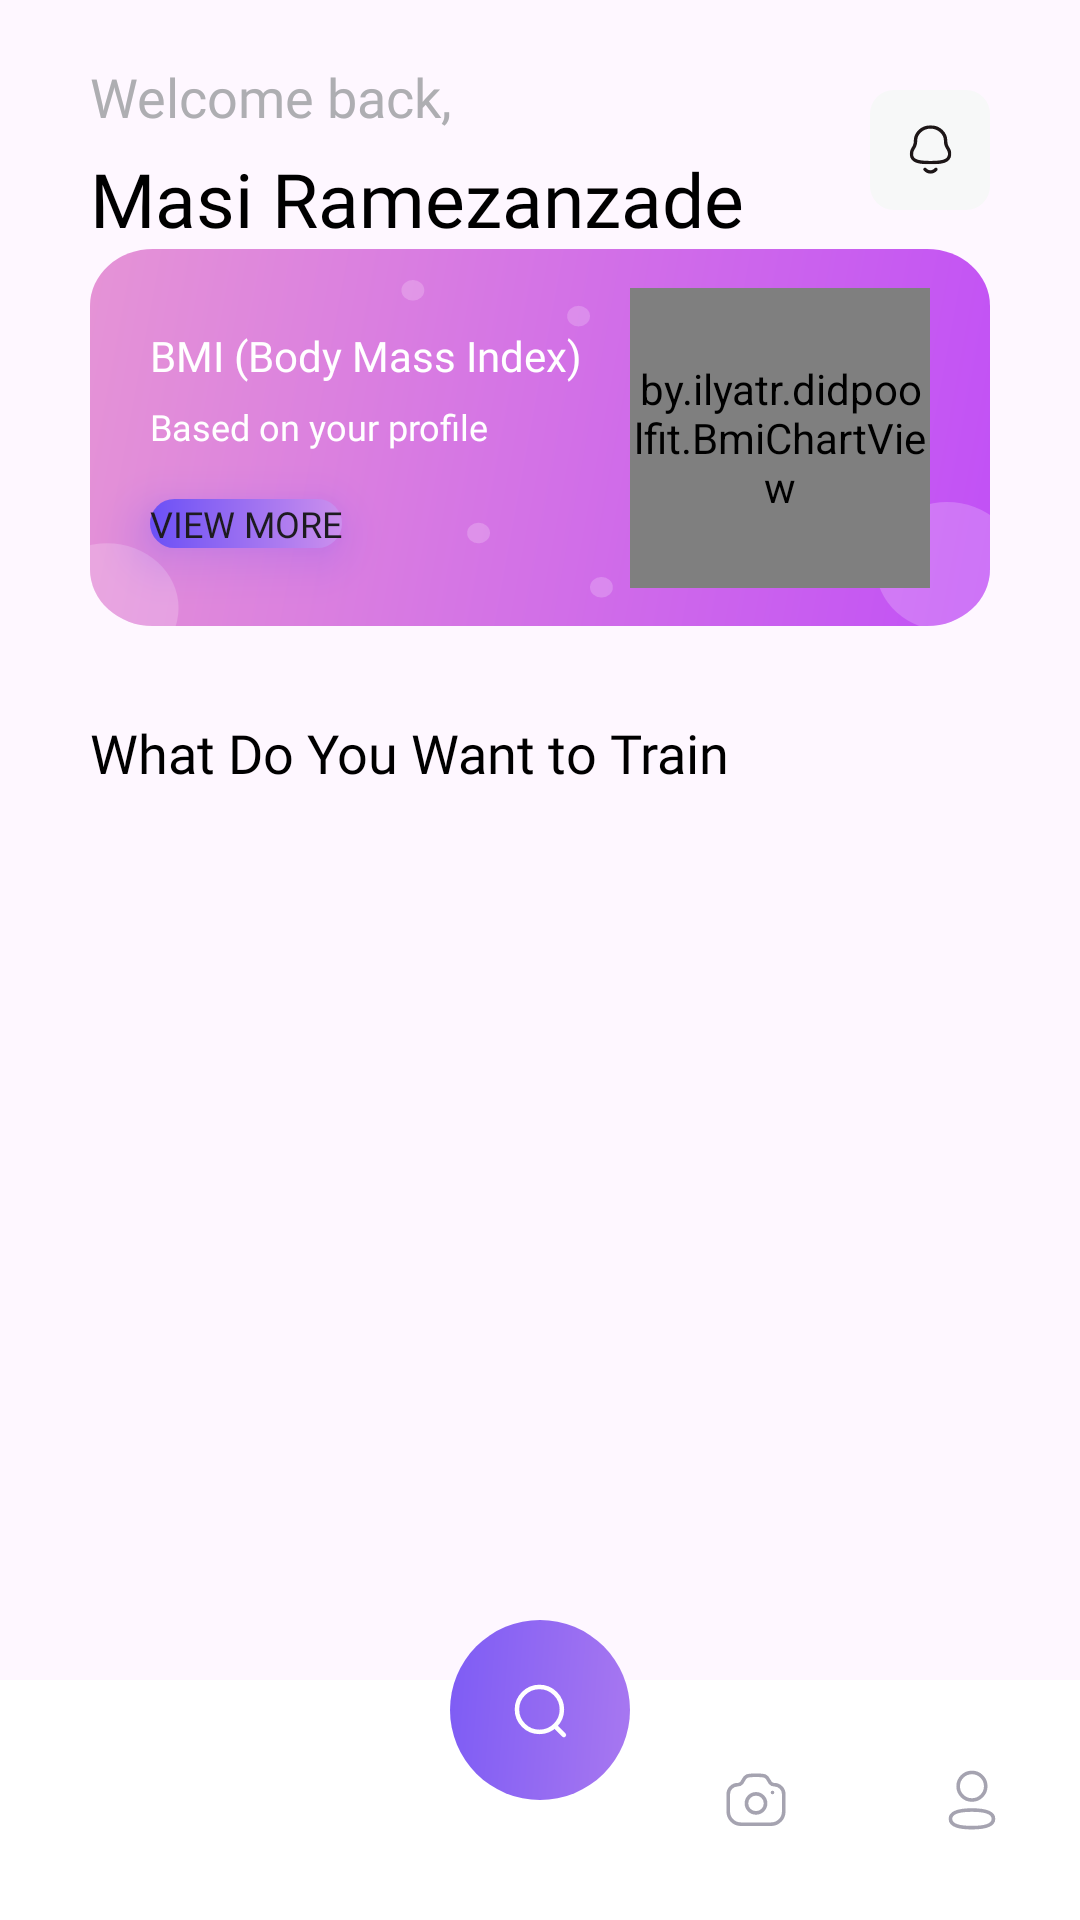

Icon click points for this 1080×1920 phone screenshot, format (x=x, y=y):
Camera: (x=756, y=1799)
Profile: (x=972, y=1800)
Search: (x=540, y=1710)
